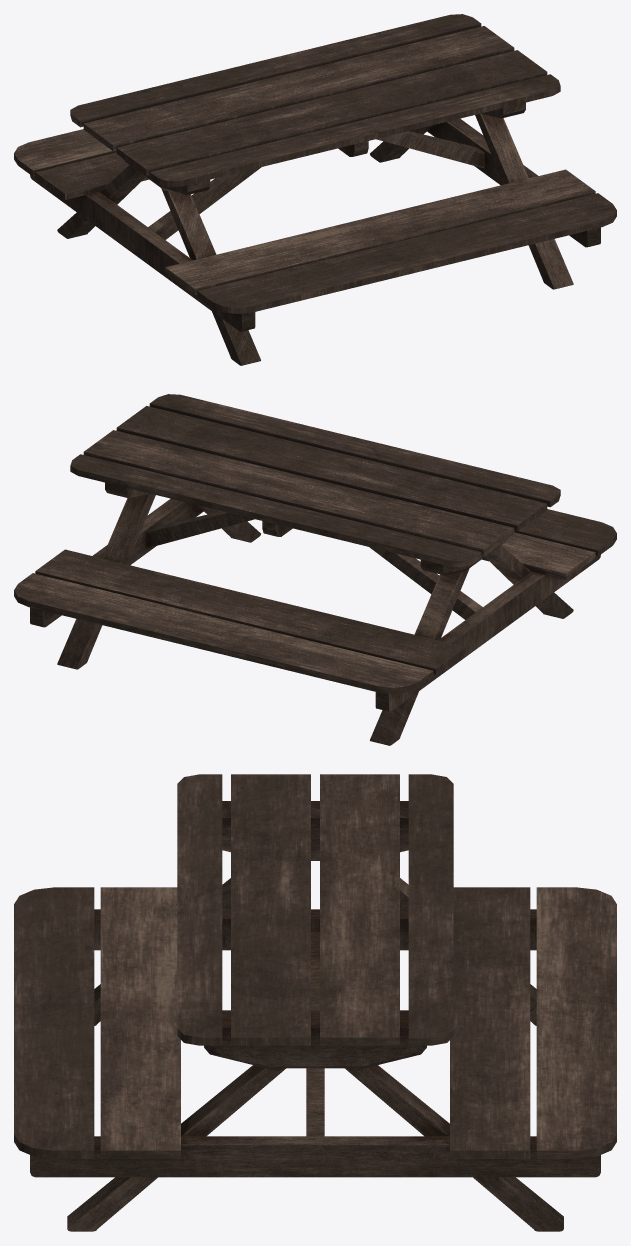
The model's file is bench.fbx.
3 views of the same model, one above another, from view 1: azimuth 30°, elevation 25°; view 2: azimuth 150°, elevation 25°; view 3: azimuth 270°, elevation 25° (orthographic). The views are drawn at different scales.
Parts seen in each view (by area): view 1: g Bench_Toppers_Low, g Bench_Base_Low; view 2: g Bench_Toppers_Low, g Bench_Base_Low; view 3: g Bench_Toppers_Low, g Bench_Base_Low.
Boxes of the visible parts, x1=… form: g Bench_Toppers_Low: x1=14, y1=14, x2=616, y2=313; g Bench_Base_Low: x1=30, y1=102, x2=600, y2=365; g Bench_Toppers_Low: x1=14, y1=394, x2=616, y2=693; g Bench_Base_Low: x1=30, y1=482, x2=600, y2=745; g Bench_Toppers_Low: x1=14, y1=774, x2=616, y2=1158; g Bench_Base_Low: x1=30, y1=801, x2=600, y2=1231.
Bounding box in the file's own units: 1456 × 559 × 1410.
Materials: 2 (2 with a texture image).
